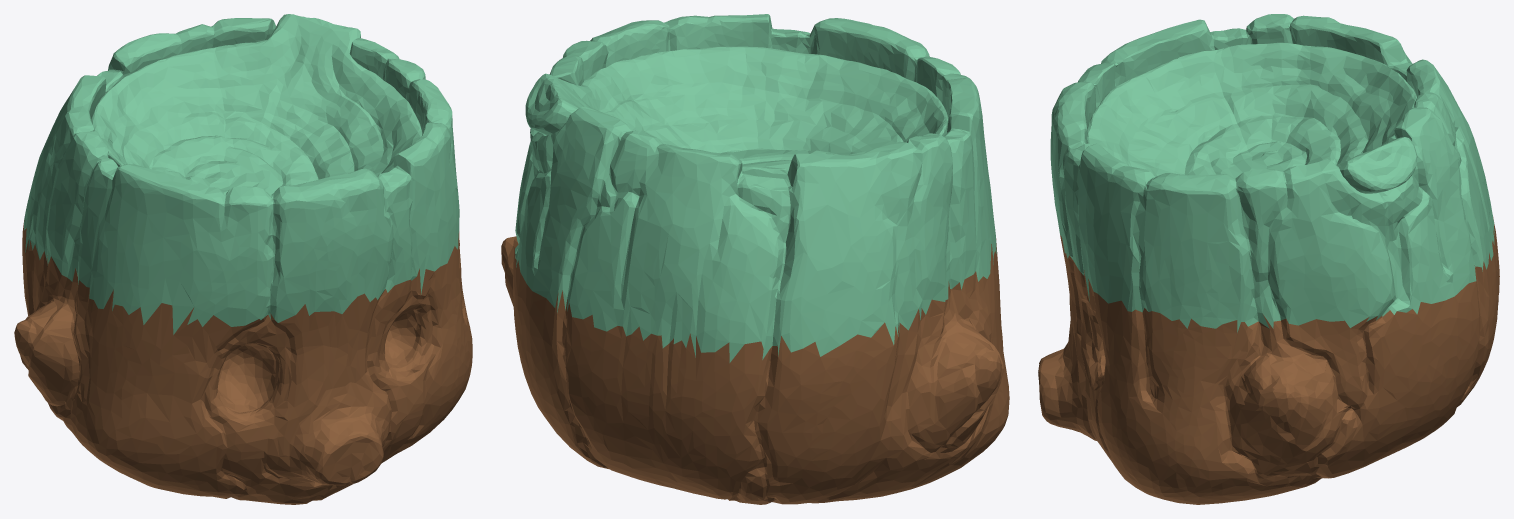
File: set_04_base_head.glb
3 renders of one model, left to right at view 1: azimuth 30°, elevation 25°; view 2: azimuth 150°, elevation 25°; view 3: azimuth 270°, elevation 25°, orthographic. The views are drawn at different scales.
Parts seen in each view (by area): view 1: head_leaf, head_wood; view 2: head_leaf, head_wood; view 3: head_leaf, head_wood.
Part boxes in pixels (bbox=[...]): head_leaf: bbox=[24, 14, 459, 334]; head_wood: bbox=[14, 220, 472, 504]; head_leaf: bbox=[515, 14, 996, 362]; head_wood: bbox=[501, 236, 1009, 504]; head_leaf: bbox=[1050, 14, 1494, 332]; head_wood: bbox=[1038, 217, 1499, 504].
Size of the model in its own units: 0.055 by 0.0441 by 0.0478.
